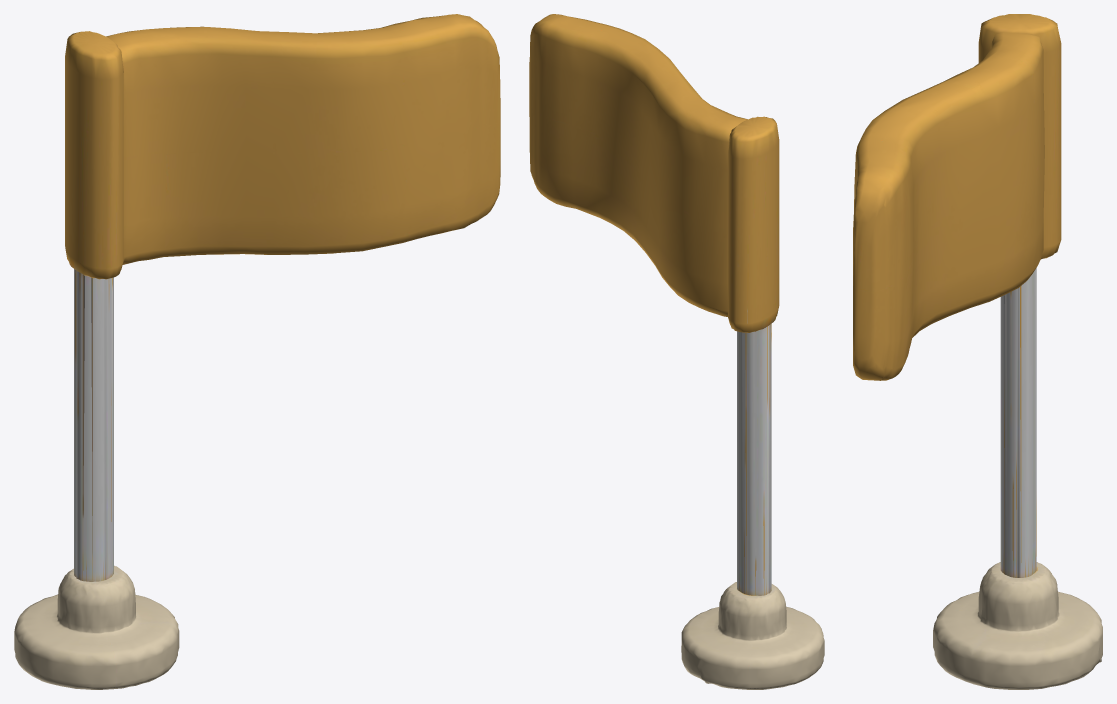
The model's file is corner-flag.glb.
3 renders of one model, left to right at view 1: azimuth 30°, elevation 25°; view 2: azimuth 150°, elevation 25°; view 3: azimuth 270°, elevation 25°, orthographic. The views are drawn at different scales.
Visible parts, largest first — view 1: Corner flag; view 2: Corner flag; view 3: Corner flag.
Boxes of the visible parts, box(x1,y1,x2,y2) form: Corner flag: box(14, 14, 500, 689); Corner flag: box(529, 14, 824, 689); Corner flag: box(853, 14, 1102, 689).
Size of the model in its own units: 0.6699 by 0.998 by 0.3535.
Materials: 1 (1 with a texture image).
